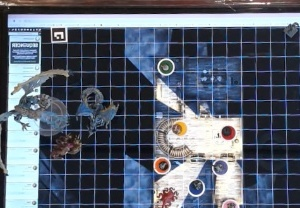blue: (187, 177, 206, 199)
green: (157, 55, 177, 78)
orange: (151, 154, 171, 174)
pink: (220, 196, 243, 207)
red: (219, 122, 238, 145)
violet: (210, 157, 229, 177)
yellow: (170, 118, 190, 139)
